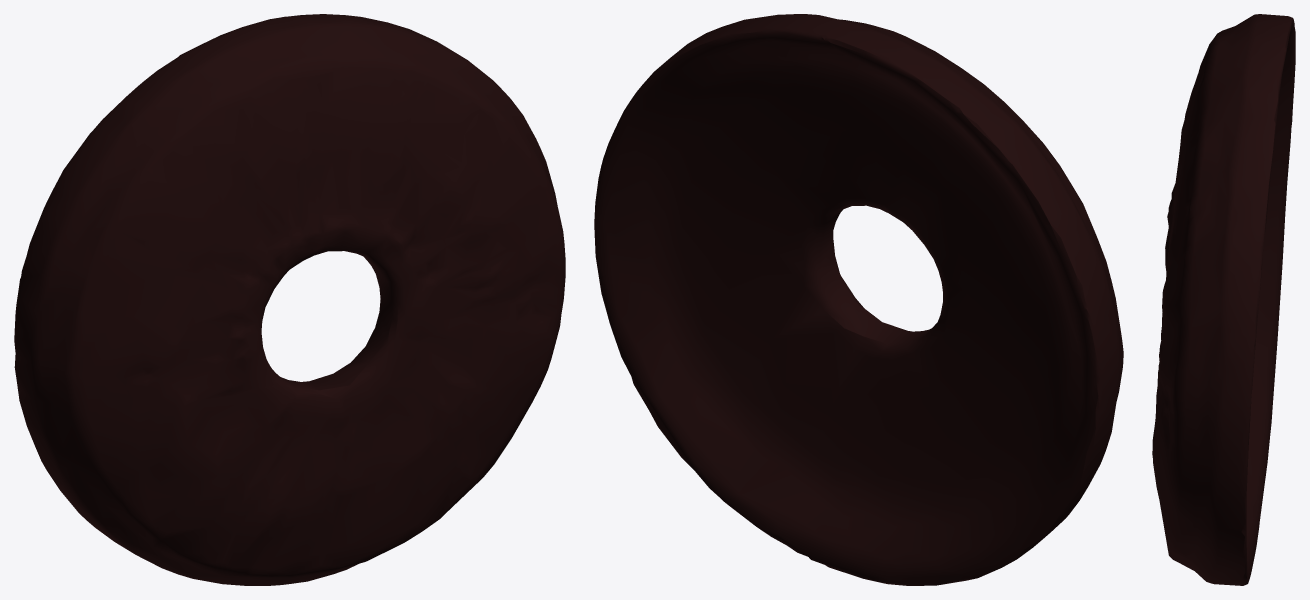
Rendered from Iris_right.glb.
3 views of the same model, side by side, from view 1: azimuth 30°, elevation 25°; view 2: azimuth 150°, elevation 25°; view 3: azimuth 270°, elevation 25° (orthographic). The views are drawn at different scales.
Parts seen in each view (by area): view 1: Iris-r_grp1.077; view 2: Iris-r_grp1.077; view 3: Iris-r_grp1.077.
Boxes of the visible parts, box(x1,y1,x2,y2) form: Iris-r_grp1.077: box(14, 14, 565, 585); Iris-r_grp1.077: box(594, 14, 1123, 585); Iris-r_grp1.077: box(1152, 14, 1295, 585).
Size of the model in its own units: 0.0129 by 0.0129 by 0.00322.
